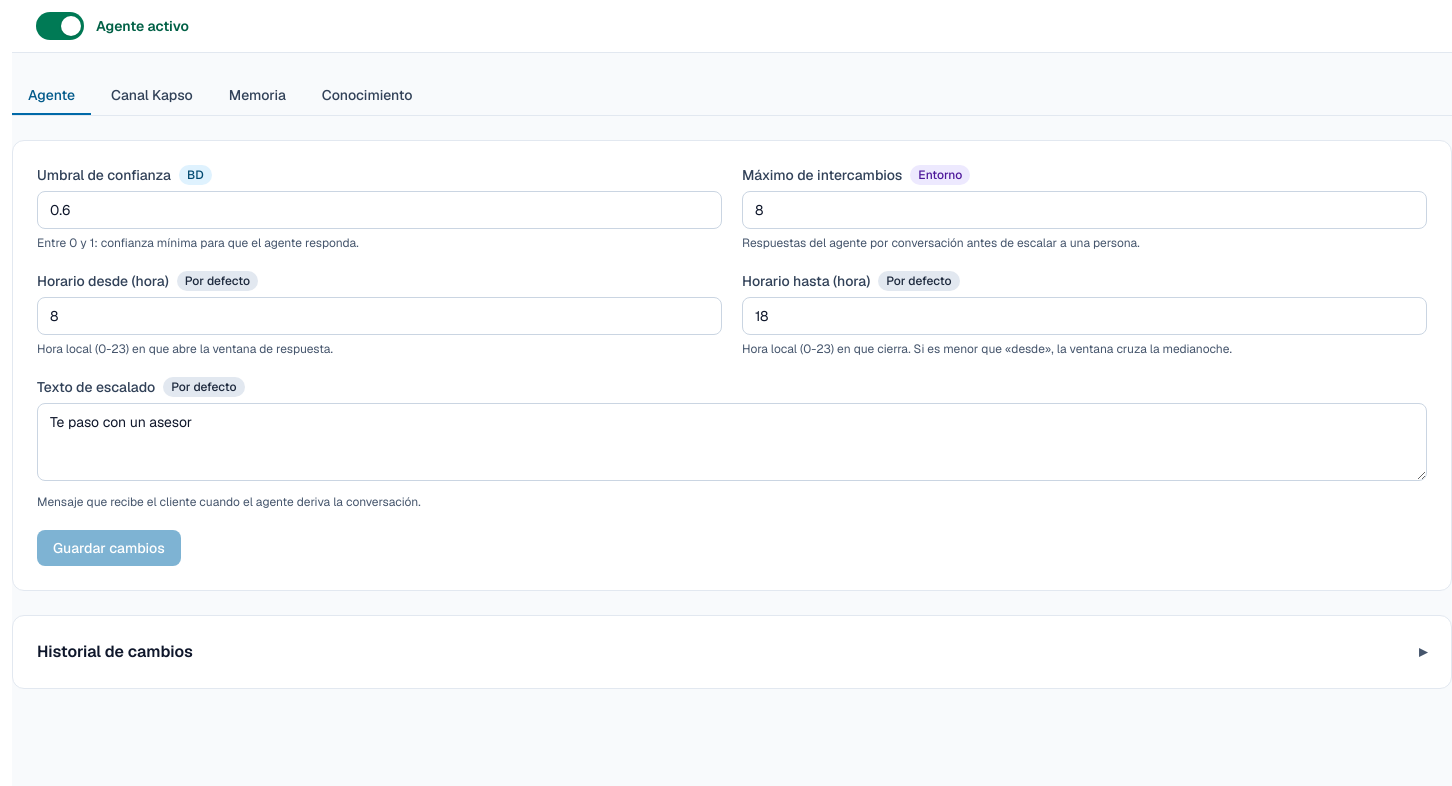
it: PanelConfiguracion — tab Memoria › CLAVE_NO_CONFIGURADA bloquea el token
Click the tab "Memoria".
click(257, 96)  # box [213,77,302,115]
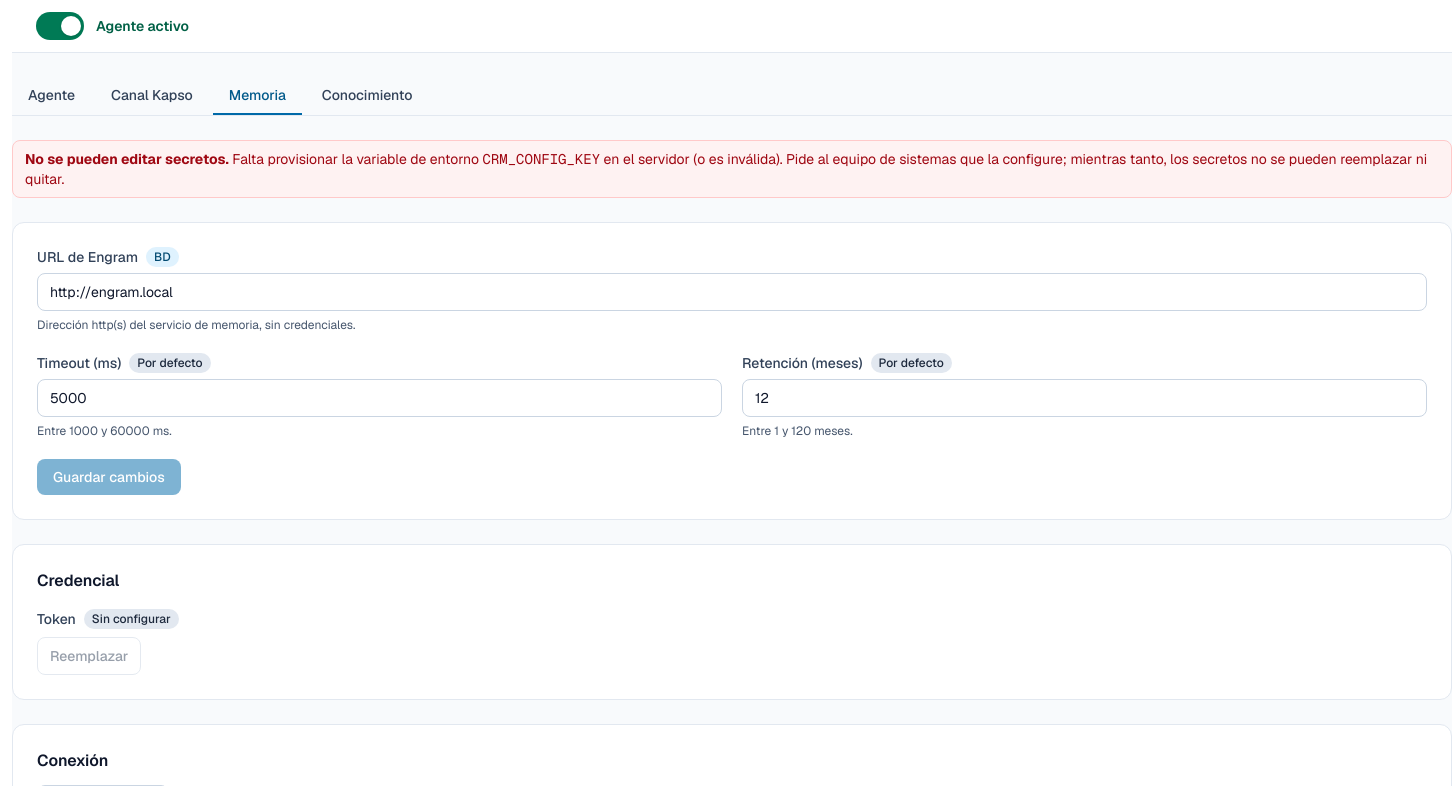
Expected: the message shows "CRM_CONFIG_KEY", [482,150,600,168]
Expected: the button with aria-label "Reemplazar Token" is disabled, [37,637,141,675]
